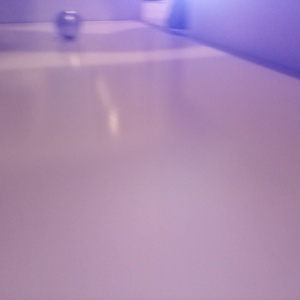alive_ball: (55, 11, 82, 39)
